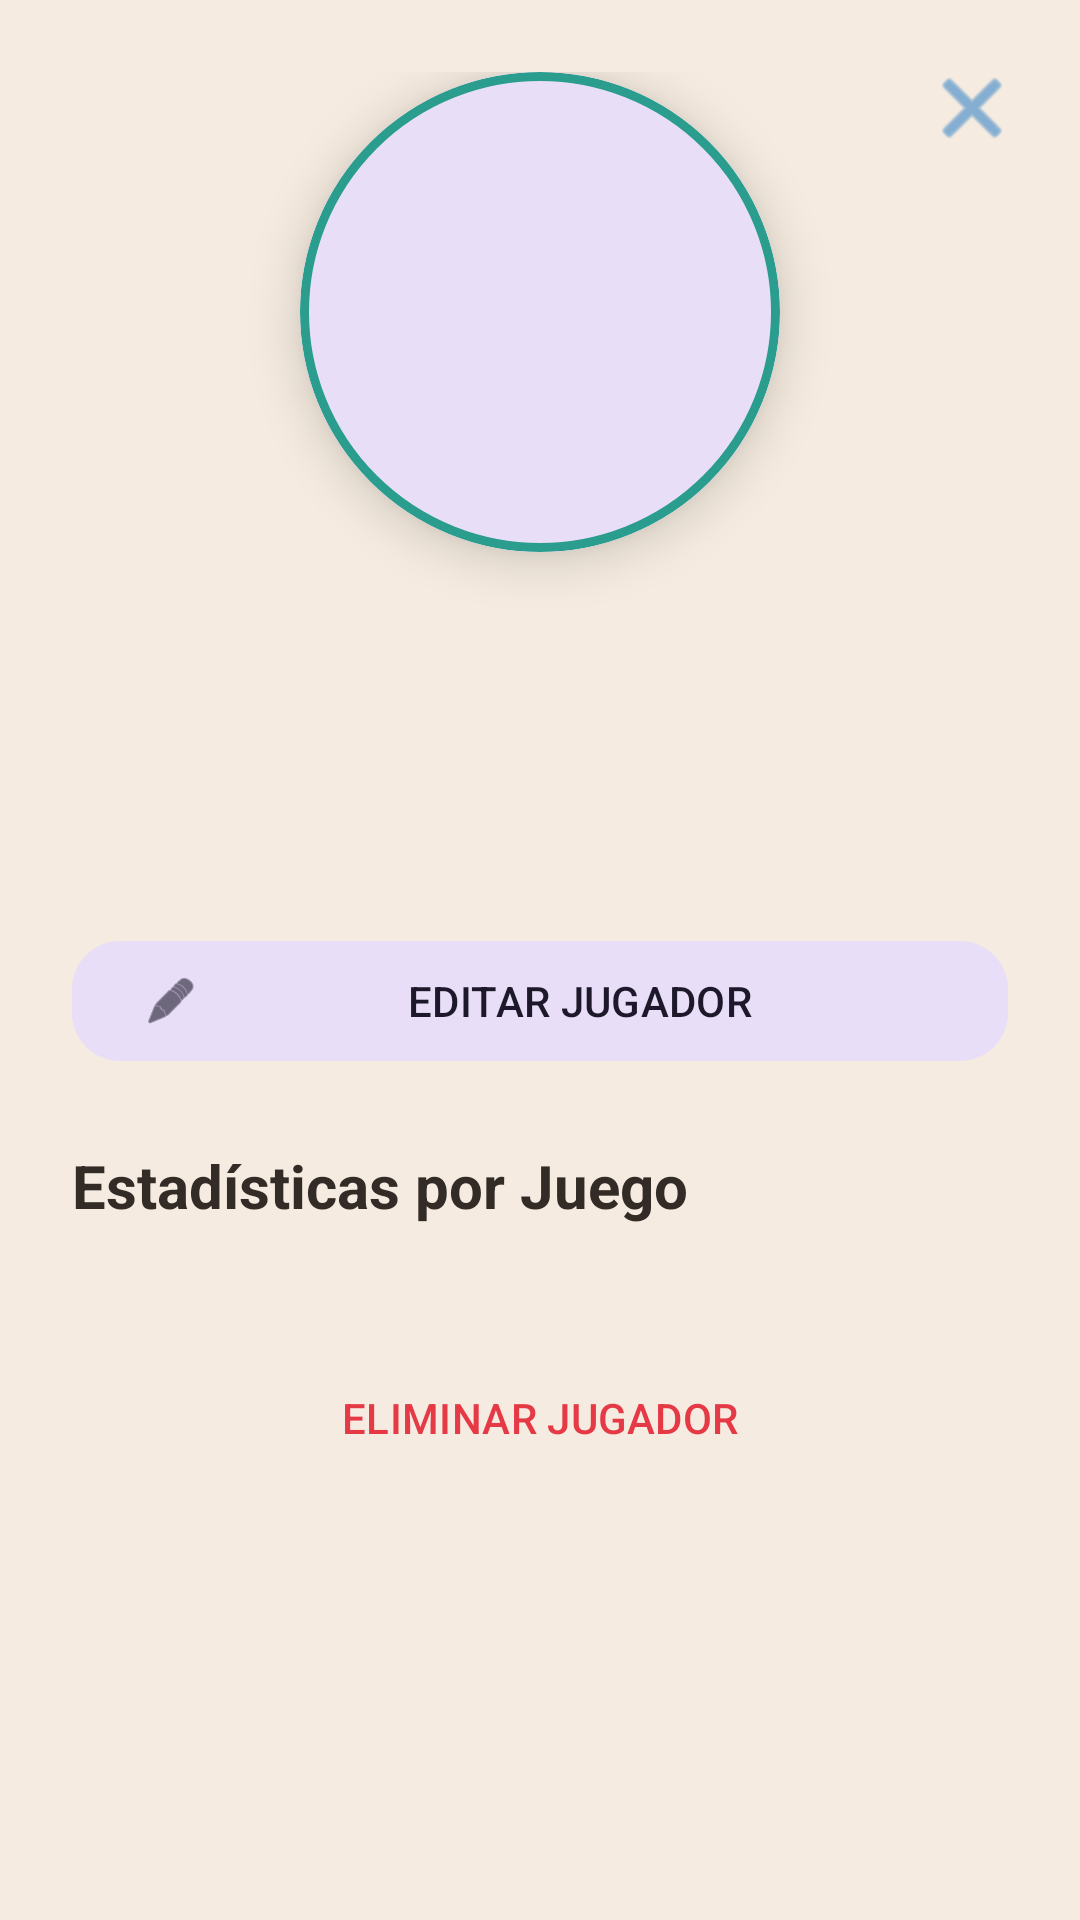

Icon click points for this 1080 × 1920 phone screenshot, format [x,y]:
Cerrar: [972,108]
